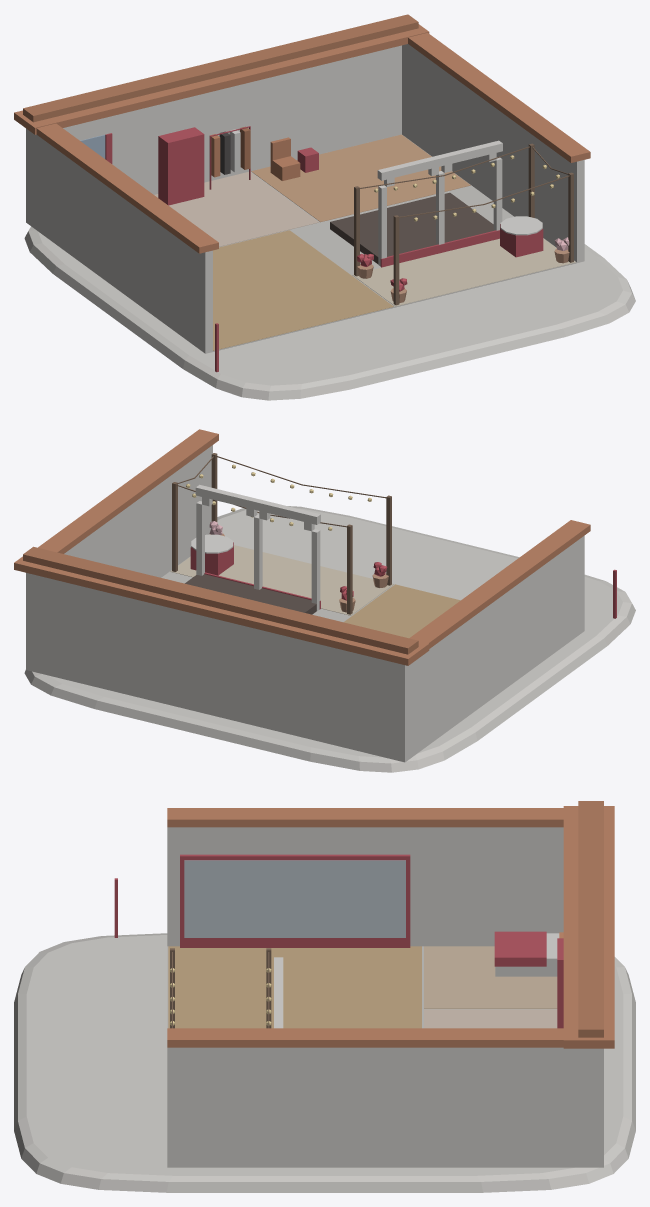
File: set.glb
3 renders of one model, top to bottom at view 1: azimuth 30°, elevation 25°; view 2: azimuth 150°, elevation 25°; view 3: azimuth 270°, elevation 25°, orthographic. The views are drawn at different scales.
Parts seen in each view (by area): view 1: casa-de-la-rosa; view 2: casa-de-la-rosa; view 3: casa-de-la-rosa.
Part boxes in pixels (x1=…): casa-de-la-rosa: x1=14, y1=14, x2=635, y2=400; casa-de-la-rosa: x1=14, y1=429, x2=635, y2=772; casa-de-la-rosa: x1=14, y1=801, x2=635, y2=1192.
Size of the model in its own units: 14 by 3.92 by 14.6.
